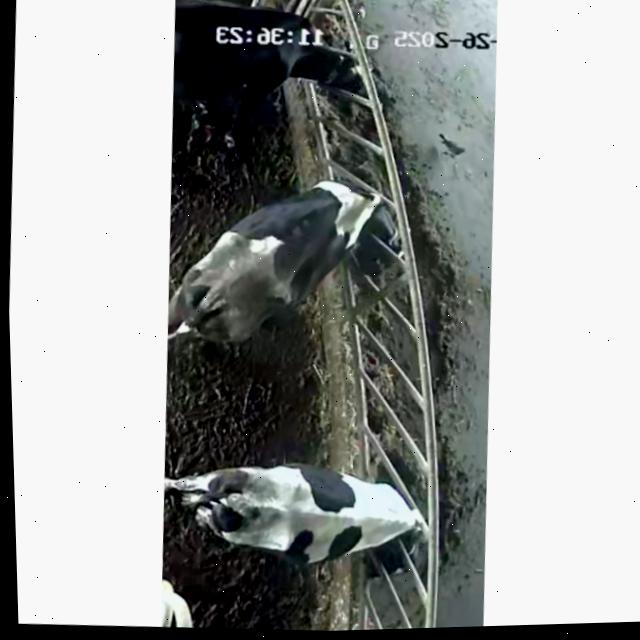eat: (280, 155, 447, 276), (332, 467, 464, 577), (270, 1, 403, 103)
